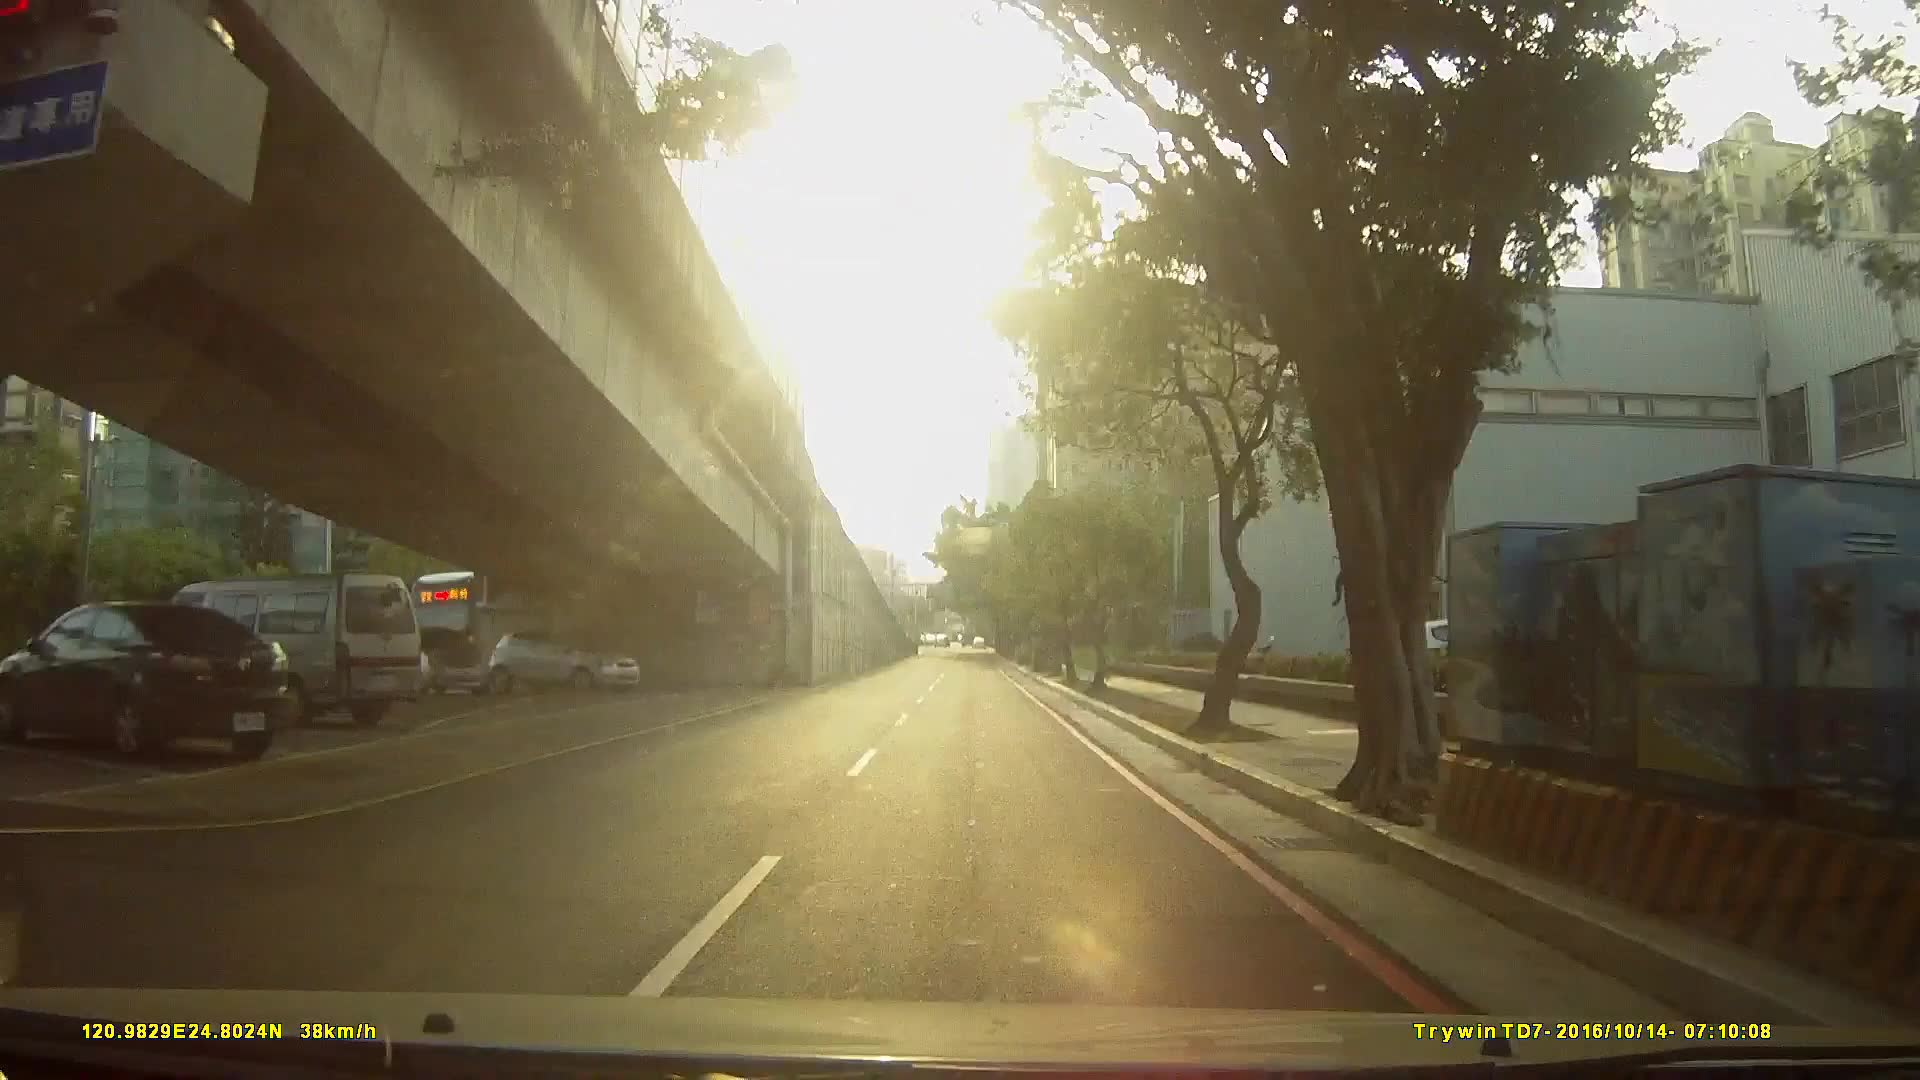vehicle: (1, 587, 315, 764), (131, 571, 417, 729), (483, 622, 640, 695), (377, 622, 487, 698)
